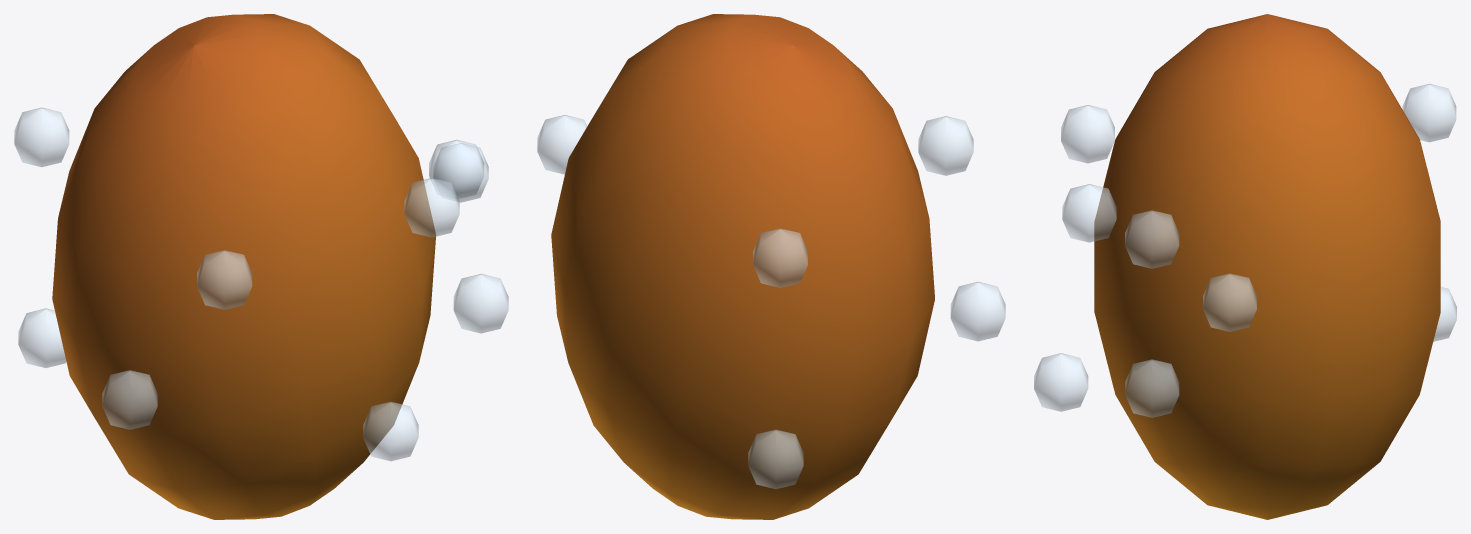
Rendered from fruit-mango-wet.gltf.
3 views of the same model, side by side, from view 1: azimuth 30°, elevation 25°; view 2: azimuth 150°, elevation 25°; view 3: azimuth 270°, elevation 25° (orthographic).
Bounding box in the file's own units: 0.4831 × 0.5274 × 0.4221.
